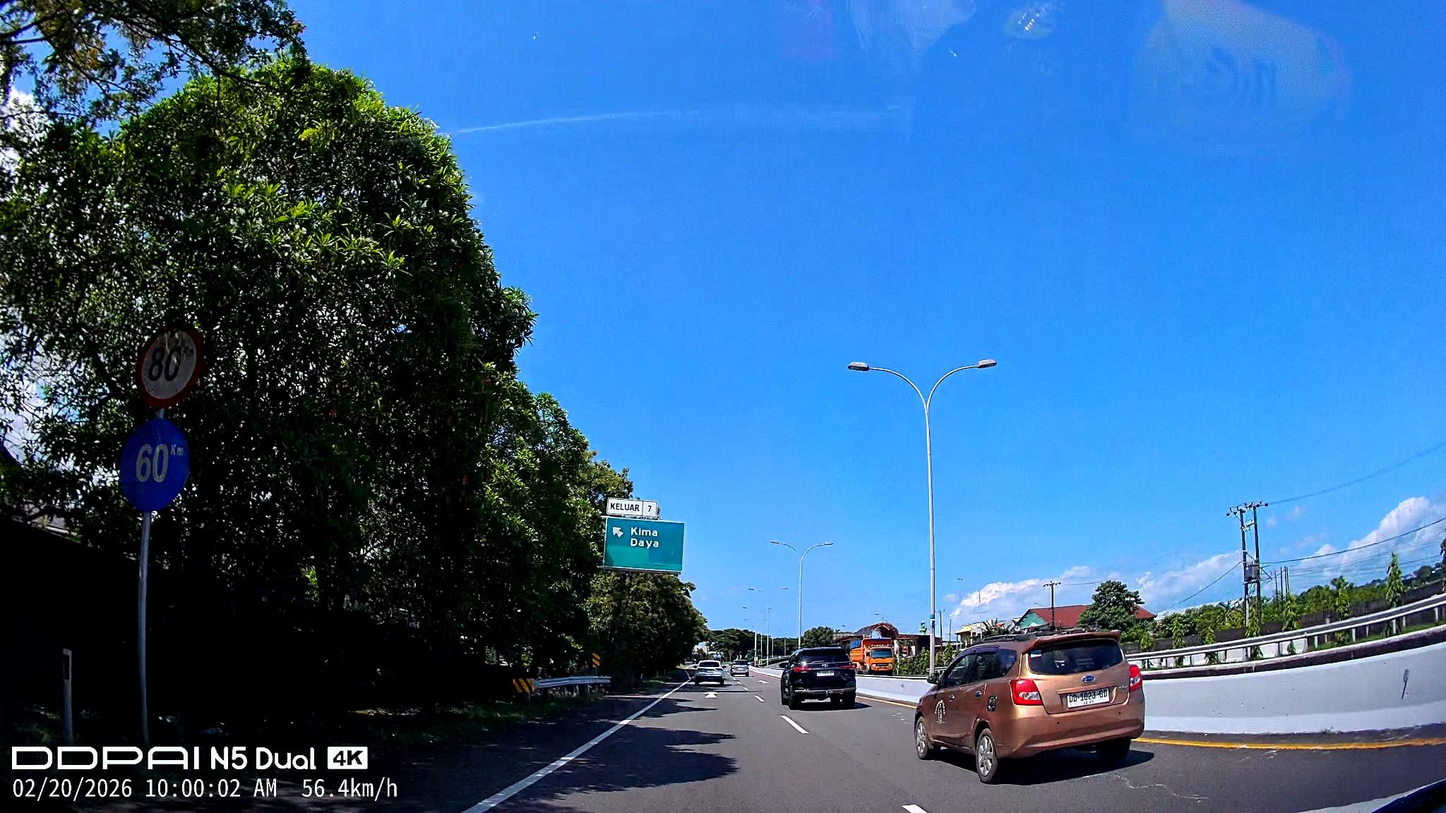rambu_teks: (602, 516, 686, 572)
